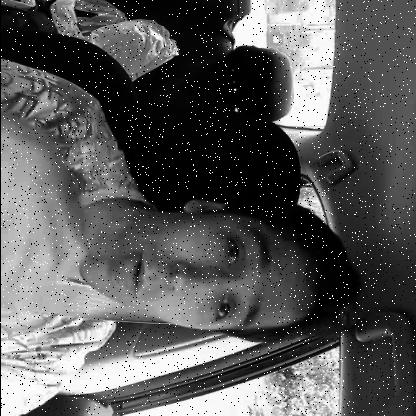seatbelt: (0, 165, 369, 346)
